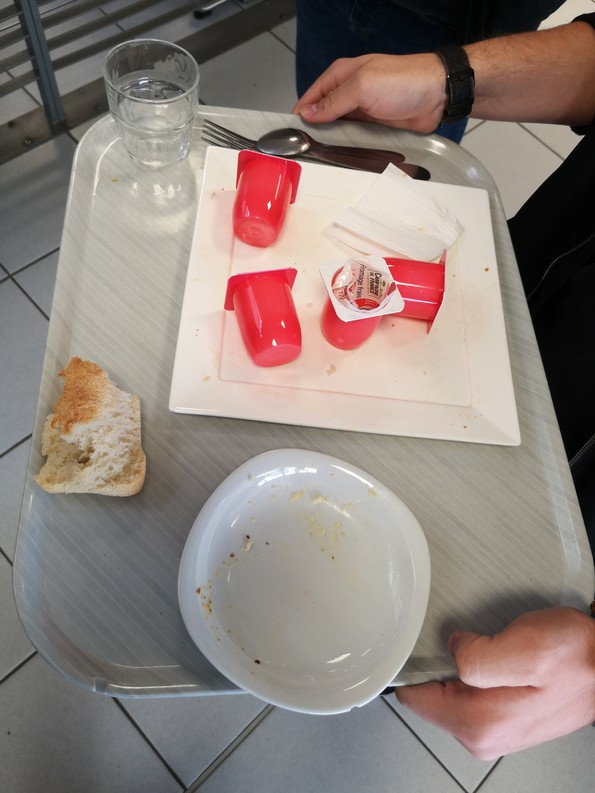cup: (79, 32, 219, 184)
cutlery: (185, 121, 445, 177)
orga: (40, 356, 156, 507)
trash: (222, 159, 473, 373)
